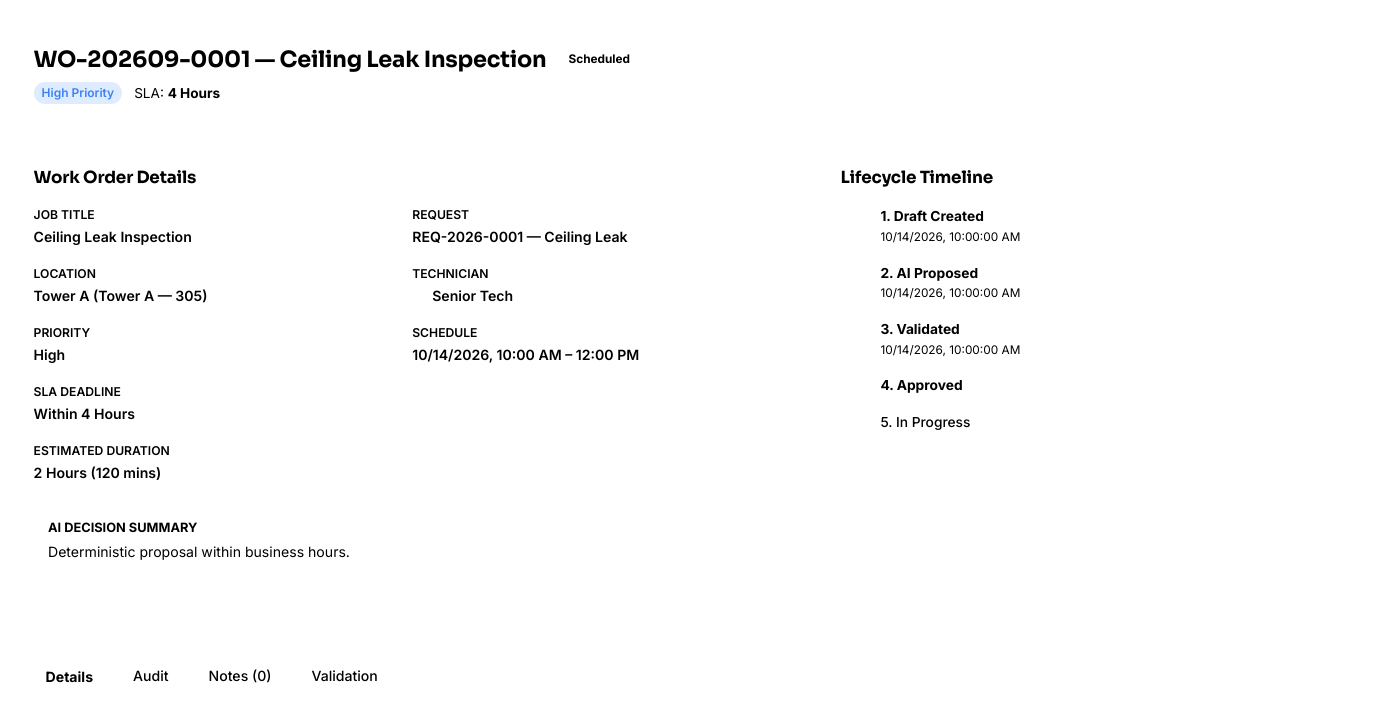
Test: Audit tab schedule-conflict checklist (WorkOrderDetailPage) › shows No Schedule Conflicts when the audit checklist is conflict-free
This screenshot has width=1390, height=722.
Expected: the heading "WO-202609-0001 — Ceiling Leak Inspection" is shown, [34, 43, 546, 76]
Step 1. Click the button "Audit" → (151, 677), box [121, 661, 181, 692]
(page scrolled)
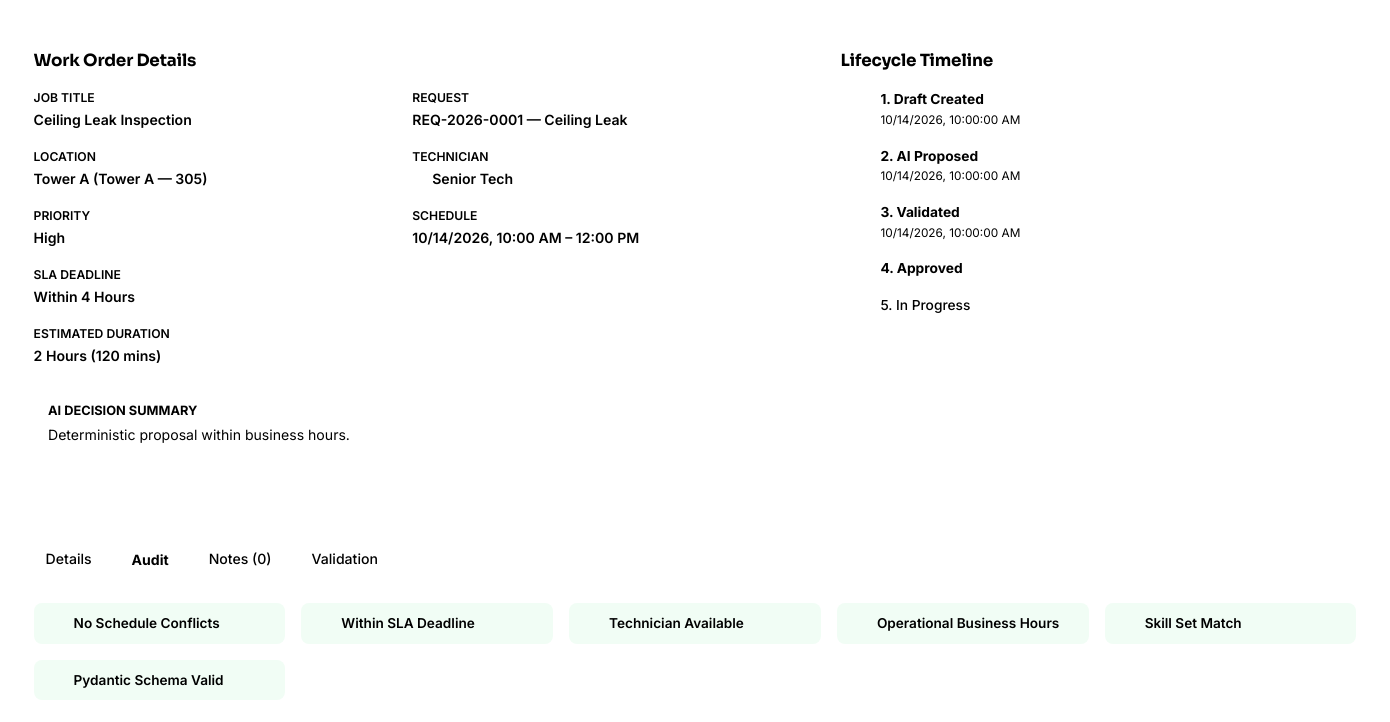
Now the text "No Schedule Conflicts" is shown, box [74, 613, 220, 634]
